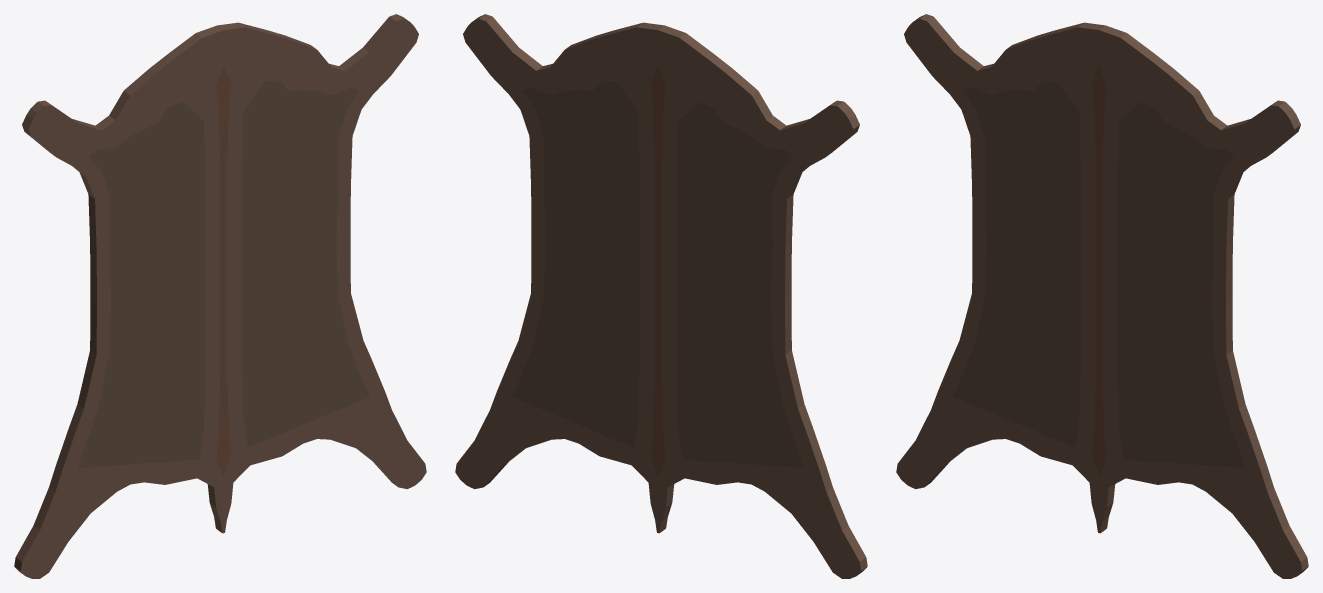
File: wolf_pelt.fbx
The picture shows the model from 3 angles, left to right: view 1: azimuth 30°, elevation 25°; view 2: azimuth 150°, elevation 25°; view 3: azimuth 330°, elevation 25°; orthographic projection.
Parts seen in each view (by area): view 1: Plane, Plane.002, Plane.001; view 2: Plane, Plane.002, Plane.001; view 3: Plane, Plane.002, Plane.001.
Part boxes in pixels (<box>): Plane: <box>78,80,369,468</box>; Plane.002: <box>14,14,426,578</box>; Plane.001: <box>216,65,230,476</box>; Plane: <box>512,80,803,468</box>; Plane.002: <box>455,14,867,578</box>; Plane.001: <box>651,65,665,476</box>; Plane: <box>953,80,1244,468</box>; Plane.002: <box>896,14,1308,578</box>; Plane.001: <box>1092,65,1106,476</box>.
Size of the model in its own units: 217 by 257 by 6.04.
